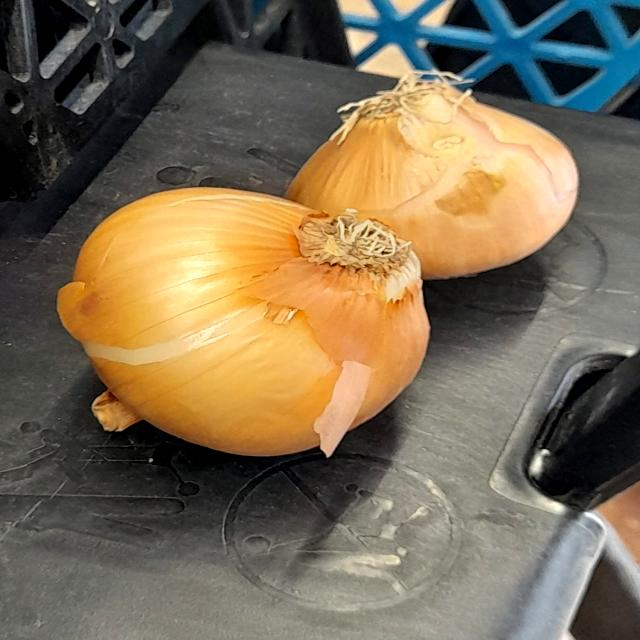onion: (61, 174, 438, 463), (277, 62, 592, 280)
